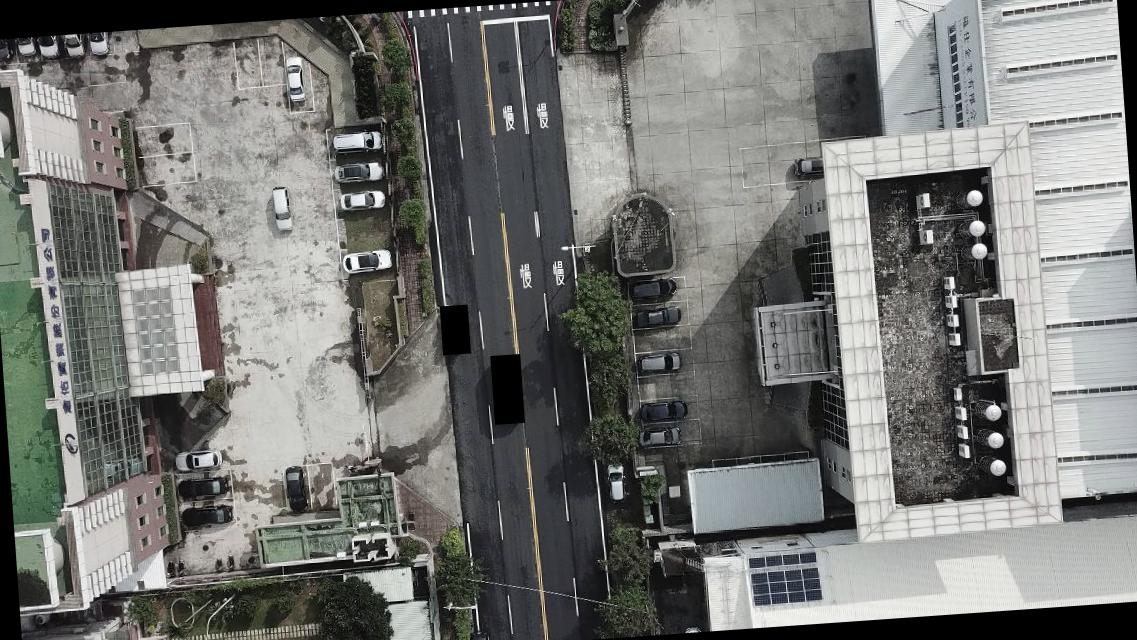vehicle: (340, 246, 394, 274), (282, 466, 310, 514), (182, 503, 233, 528), (268, 182, 292, 235), (332, 128, 382, 153), (626, 279, 678, 303), (178, 475, 230, 499), (172, 448, 222, 472), (332, 160, 384, 183), (636, 426, 685, 450), (603, 459, 629, 504), (636, 350, 682, 374), (284, 55, 306, 104), (338, 188, 382, 212), (638, 402, 688, 423), (632, 308, 682, 328), (792, 156, 826, 179), (62, 34, 86, 61), (37, 35, 61, 61), (86, 32, 110, 56), (14, 37, 35, 60), (0, 38, 14, 68), (469, 630, 489, 639)
